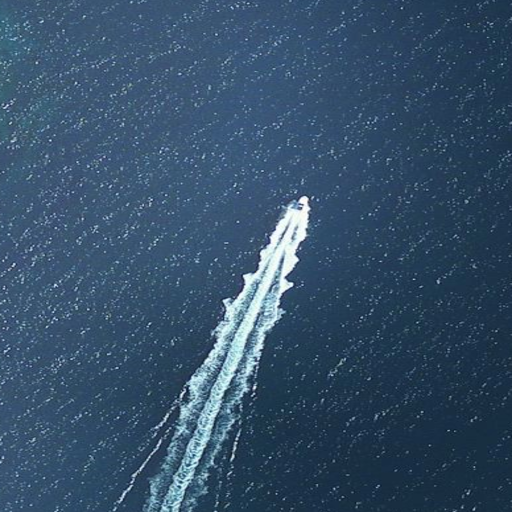ship: (290, 194, 312, 214)
